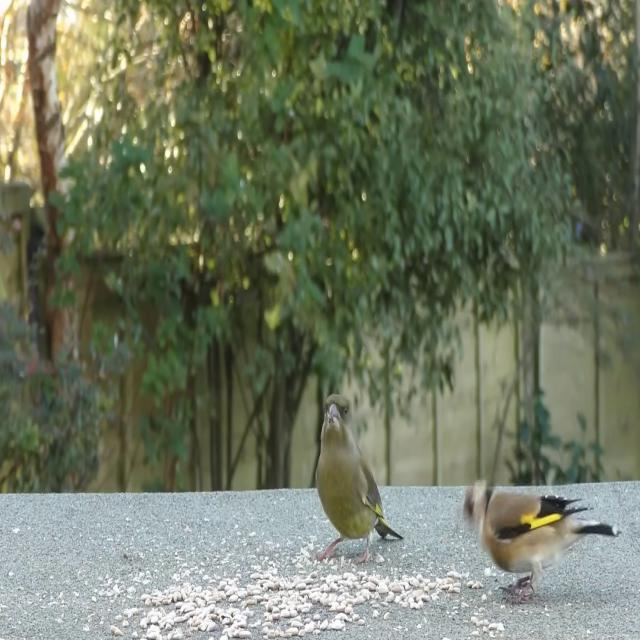beak: (325, 406, 341, 431)
bird: (457, 471, 619, 600), (314, 389, 405, 568)
